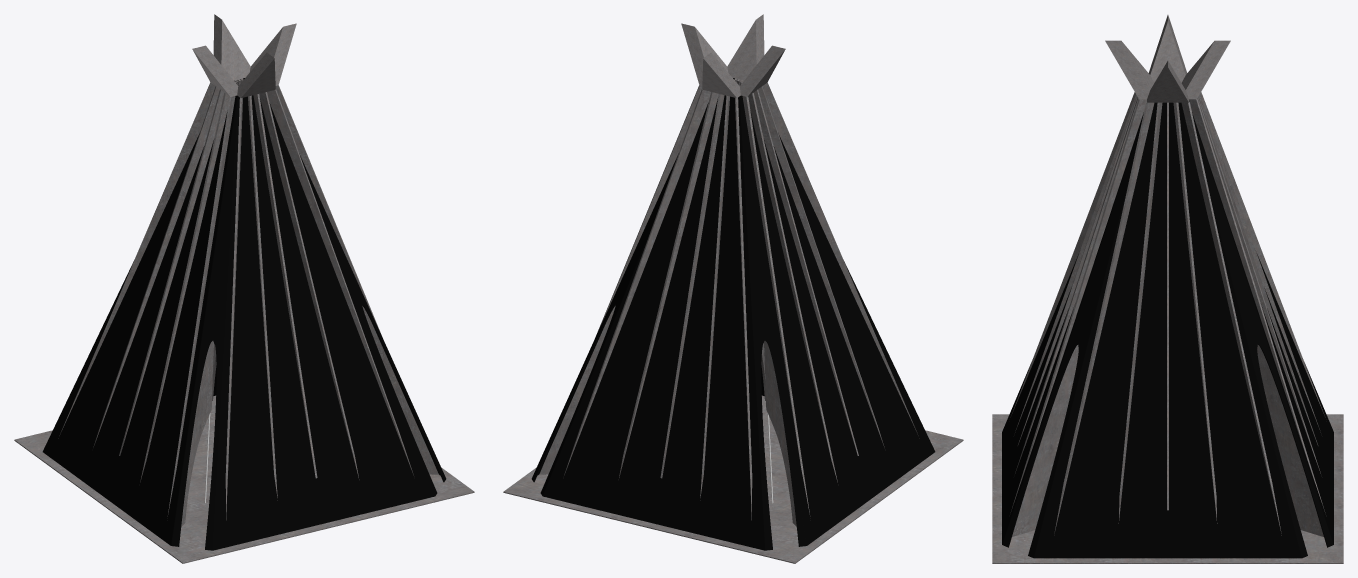
The model's file is 11-HOLY SHADOW.glb.
The picture shows the model from 3 angles, left to right: view 1: azimuth 30°, elevation 25°; view 2: azimuth 150°, elevation 25°; view 3: azimuth 270°, elevation 25°; orthographic projection. The views are drawn at different scales.
Visible parts, largest first — view 1: Black Facade, Structure, Ground, Top Triangle Opening; view 2: Black Facade, Structure, Ground, Top Triangle Opening; view 3: Black Facade, Structure, Ground, Top Triangle Opening.
Part boxes in pixels (x1,y1,x2,y2): Black Facade: (42, 78, 446, 550); Structure: (58, 78, 438, 526); Ground: (14, 395, 474, 563); Top Triangle Opening: (192, 14, 296, 97); Black Facade: (531, 78, 935, 550); Structure: (539, 78, 919, 526); Ground: (503, 395, 963, 563); Top Triangle Opening: (681, 14, 785, 97); Black Facade: (1002, 102, 1333, 558); Structure: (1010, 92, 1325, 536); Ground: (992, 414, 1343, 563); Top Triangle Opening: (1105, 15, 1230, 102).
Bounding box in the file's own units: 32 × 45.1 × 32.
Materials: 5 (2 with a texture image).
